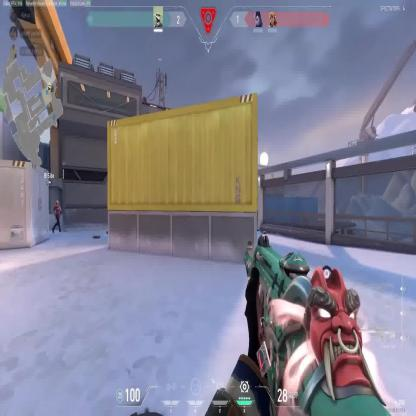enemy: (52, 199, 62, 235)
enemy_head: (55, 200, 59, 208)
